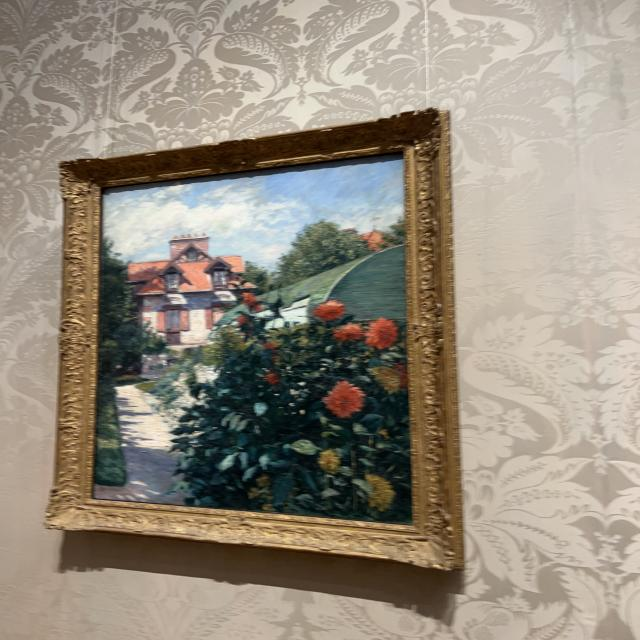summer: (92, 152, 412, 524)
